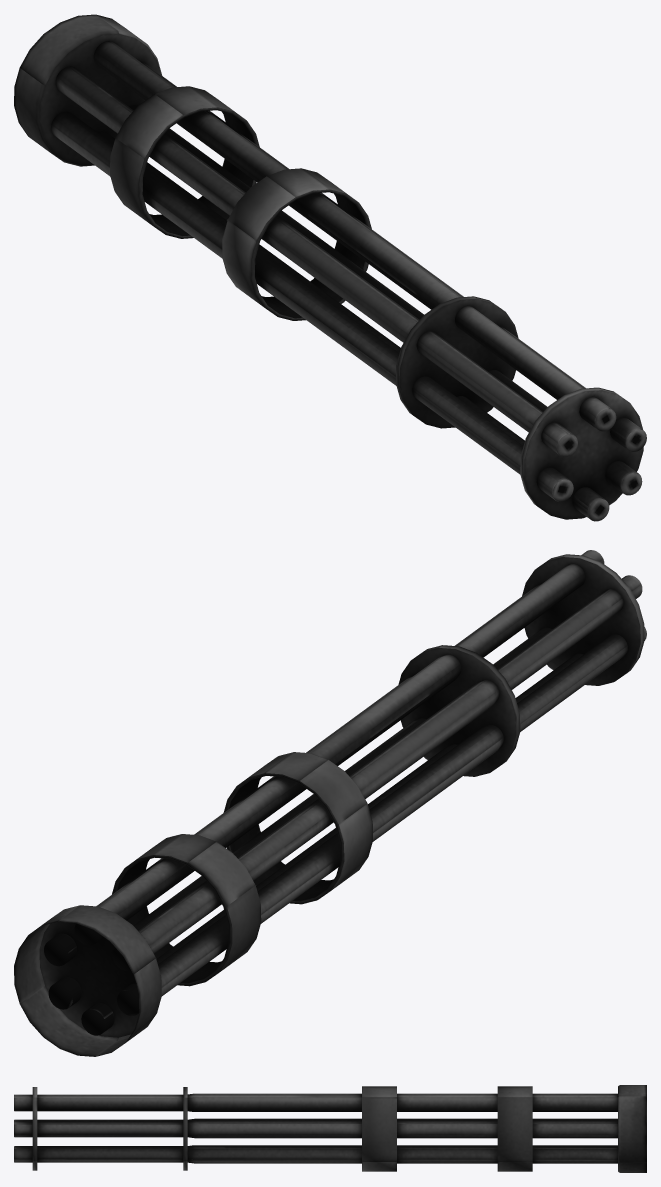
Rendered from Barrel.fbx.
The picture shows the model from 3 angles, top to bottom: view 1: azimuth 30°, elevation 25°; view 2: azimuth 150°, elevation 25°; view 3: azimuth 270°, elevation 25°; orthographic projection. The views are drawn at different scales.
Parts seen in each view (by area): view 1: Cube_000; view 2: Cube_000; view 3: Cube_000.
Boxes of the visible parts, <box> form: Cube_000: <box>14,14,646,521</box>; Cube_000: <box>14,550,646,1056</box>; Cube_000: <box>14,1085,646,1172</box>.
Size of the model in its own units: 0.7177 by 0.7232 by 5.19.
